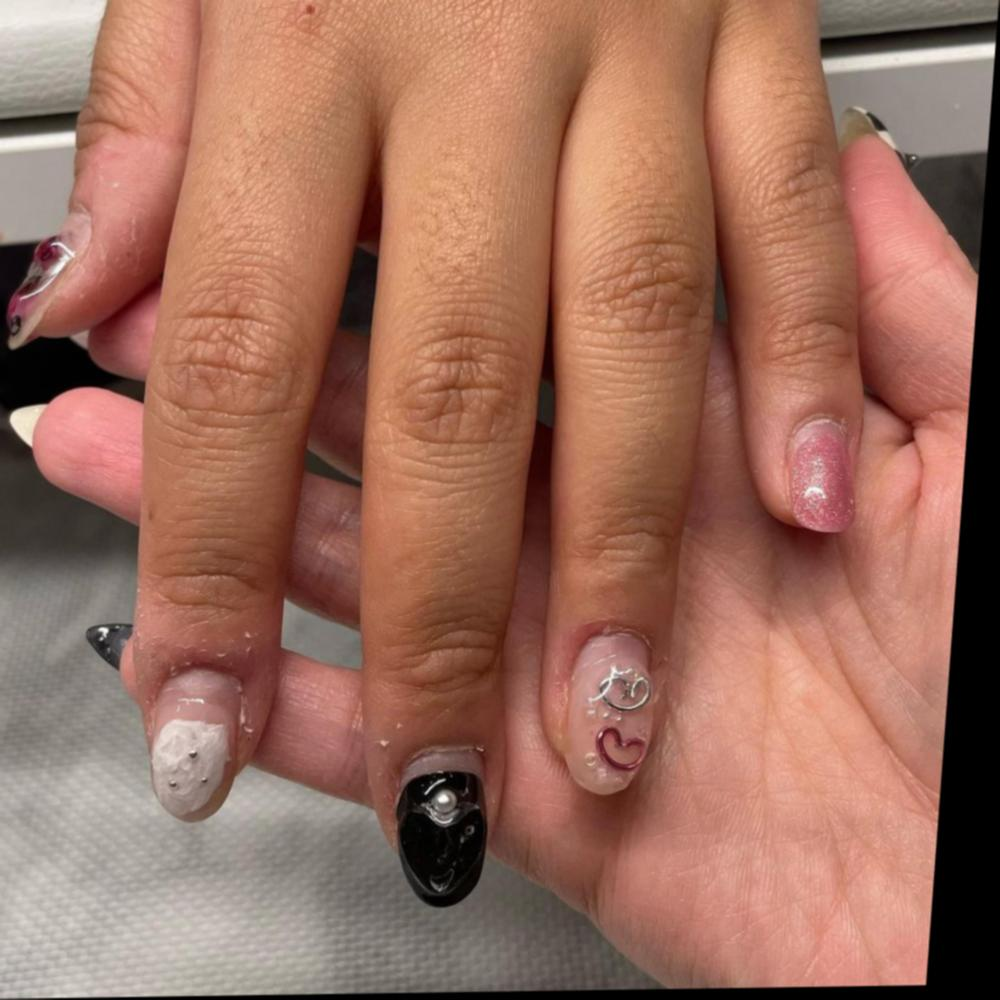nail: (558, 624, 664, 797), (387, 744, 496, 908), (142, 666, 249, 821), (781, 414, 863, 535), (3, 233, 80, 349), (836, 103, 923, 171), (84, 620, 135, 671)
